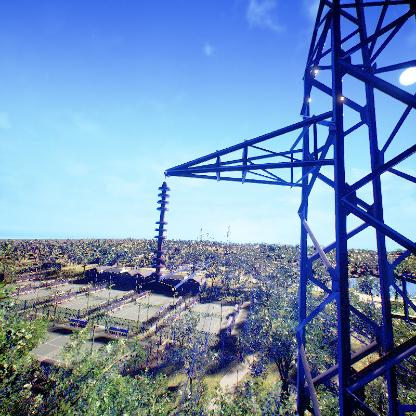insulator: (151, 185, 171, 280)
